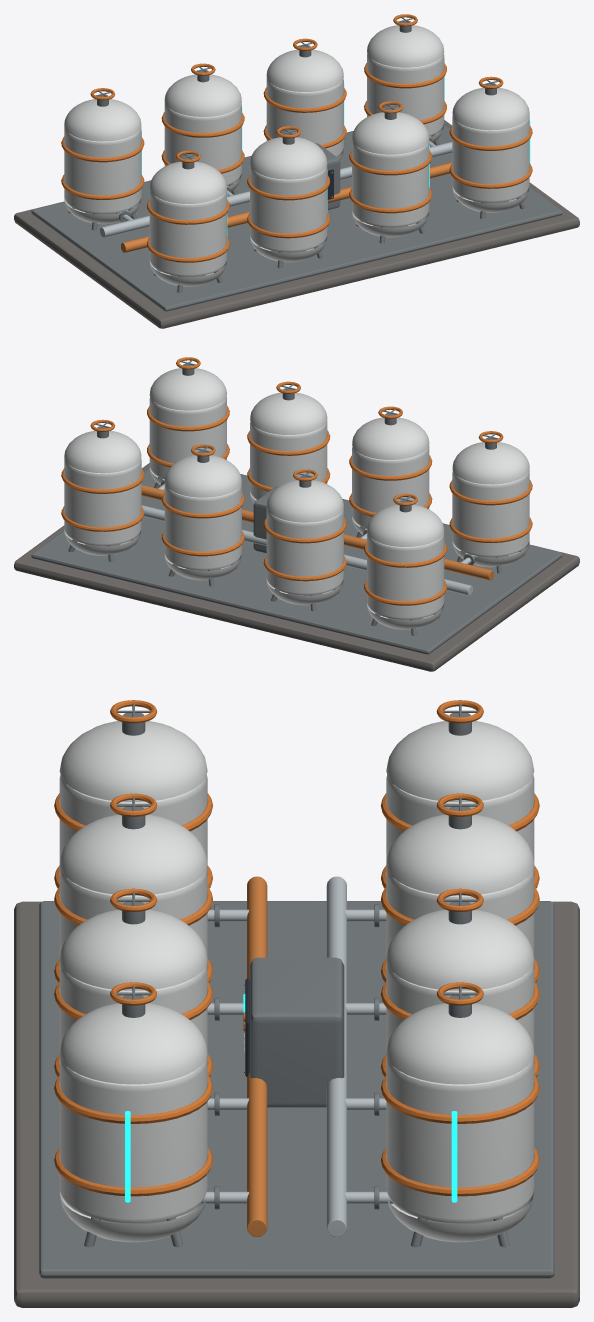
File: cryogenic-farm.glb
3 renders of one model, top to bottom at view 1: azimuth 30°, elevation 25°; view 2: azimuth 150°, elevation 25°; view 3: azimuth 270°, elevation 25°, orthographic. The views are drawn at different scales.
Visible parts, largest first — view 1: RenderBatch_CryogenicFarm_CRYO_Frame, Cryo_Foundation, RenderBatch_Cryo_Tank_04_CRYO_ThermalWhite, RenderBatch_Cryo_Tank_03_CRYO_ThermalWhite, RenderBatch_Cryo_Tank_01_CRYO_ThermalWhite, RenderBatch_Cryo_Tank_02_CRYO_ThermalWhite, RenderBatch_Cryo_Tank_05_CRYO_ThermalWhite, RenderBatch_Cryo_Tank_08_CRYO_ThermalWhite, RenderBatch_Cryo_Tank_06_CRYO_ThermalWhite, RenderBatch_Cryo_Tank_07_CRYO_ThermalWhite, Cryo_HeaderPipeB, RenderBatch_Cryo_Tank_05_CRYO_SafetyOrange (+8 smaller); view 2: RenderBatch_CryogenicFarm_CRYO_Frame, Cryo_Foundation, RenderBatch_Cryo_Tank_08_CRYO_ThermalWhite, RenderBatch_Cryo_Tank_07_CRYO_ThermalWhite, RenderBatch_Cryo_Tank_05_CRYO_ThermalWhite, RenderBatch_Cryo_Tank_06_CRYO_ThermalWhite, RenderBatch_Cryo_Tank_01_CRYO_ThermalWhite, RenderBatch_Cryo_Tank_04_CRYO_ThermalWhite, RenderBatch_Cryo_Tank_02_CRYO_ThermalWhite, RenderBatch_Cryo_Tank_03_CRYO_ThermalWhite, Cryo_HeaderPipeA, Cryo_HeaderPipeB (+8 smaller); view 3: RenderBatch_CryogenicFarm_CRYO_Frame, Cryo_Foundation, RenderBatch_Cryo_Tank_04_CRYO_ThermalWhite, RenderBatch_Cryo_Tank_08_CRYO_ThermalWhite, RenderBatch_Cryo_Tank_02_CRYO_ThermalWhite, RenderBatch_Cryo_Tank_06_CRYO_ThermalWhite, RenderBatch_Cryo_Tank_07_CRYO_ThermalWhite, RenderBatch_Cryo_Tank_03_CRYO_ThermalWhite, RenderBatch_Cryo_Tank_01_CRYO_ThermalWhite, RenderBatch_Cryo_Tank_05_CRYO_ThermalWhite, Cryo_HeaderPipeB, Cryo_HeaderPipeA (+10 smaller).
Part boxes in pixels (<box>): RenderBatch_CryogenicFarm_CRYO_Frame: <box>31,125,562,311</box>; Cryo_Foundation: <box>14,120,579,328</box>; RenderBatch_Cryo_Tank_04_CRYO_ThermalWhite: <box>452,87,529,212</box>; RenderBatch_Cryo_Tank_03_CRYO_ThermalWhite: <box>352,112,429,237</box>; RenderBatch_Cryo_Tank_01_CRYO_ThermalWhite: <box>149,161,226,286</box>; RenderBatch_Cryo_Tank_02_CRYO_ThermalWhite: <box>250,137,327,262</box>; RenderBatch_Cryo_Tank_05_CRYO_ThermalWhite: <box>64,99,141,224</box>; RenderBatch_Cryo_Tank_08_CRYO_ThermalWhite: <box>367,25,444,142</box>; RenderBatch_Cryo_Tank_06_CRYO_ThermalWhite: <box>164,74,241,191</box>; RenderBatch_Cryo_Tank_07_CRYO_ThermalWhite: <box>266,49,343,160</box>; Cryo_HeaderPipeB: <box>100,142,452,237</box>; RenderBatch_Cryo_Tank_05_CRYO_SafetyOrange: <box>61,136,144,199</box>; RenderBatch_CryogenicFarm_CRYO_Frame: <box>31,468,562,654</box>; Cryo_Foundation: <box>14,463,579,671</box>; RenderBatch_Cryo_Tank_08_CRYO_ThermalWhite: <box>64,430,141,555</box>; RenderBatch_Cryo_Tank_07_CRYO_ThermalWhite: <box>164,455,241,580</box>; RenderBatch_Cryo_Tank_05_CRYO_ThermalWhite: <box>367,504,444,629</box>; RenderBatch_Cryo_Tank_06_CRYO_ThermalWhite: <box>266,480,343,605</box>; RenderBatch_Cryo_Tank_01_CRYO_ThermalWhite: <box>452,442,529,567</box>; RenderBatch_Cryo_Tank_04_CRYO_ThermalWhite: <box>149,368,226,485</box>; RenderBatch_Cryo_Tank_02_CRYO_ThermalWhite: <box>352,417,429,534</box>; RenderBatch_Cryo_Tank_03_CRYO_ThermalWhite: <box>250,392,327,503</box>; Cryo_HeaderPipeA: <box>141,485,493,580</box>; Cryo_HeaderPipeB: <box>141,505,472,595</box>; RenderBatch_CryogenicFarm_CRYO_Frame: <box>39,901,554,1278</box>; Cryo_Foundation: <box>14,901,579,1307</box>; RenderBatch_Cryo_Tank_04_CRYO_ThermalWhite: <box>59,1003,207,1242</box>; RenderBatch_Cryo_Tank_08_CRYO_ThermalWhite: <box>386,1003,534,1242</box>; RenderBatch_Cryo_Tank_02_CRYO_ThermalWhite: <box>59,814,207,965</box>; RenderBatch_Cryo_Tank_06_CRYO_ThermalWhite: <box>386,814,534,965</box>; RenderBatch_Cryo_Tank_07_CRYO_ThermalWhite: <box>386,909,534,1059</box>; RenderBatch_Cryo_Tank_03_CRYO_ThermalWhite: <box>59,909,207,1059</box>; RenderBatch_Cryo_Tank_01_CRYO_ThermalWhite: <box>59,721,207,870</box>; RenderBatch_Cryo_Tank_05_CRYO_ThermalWhite: <box>386,721,534,870</box>; Cryo_HeaderPipeB: <box>326,876,346,1236</box>; Cryo_HeaderPipeA: <box>247,876,267,1236</box>.
Bounding box in the file's own units: 12.8 × 4.02 × 7.8.
